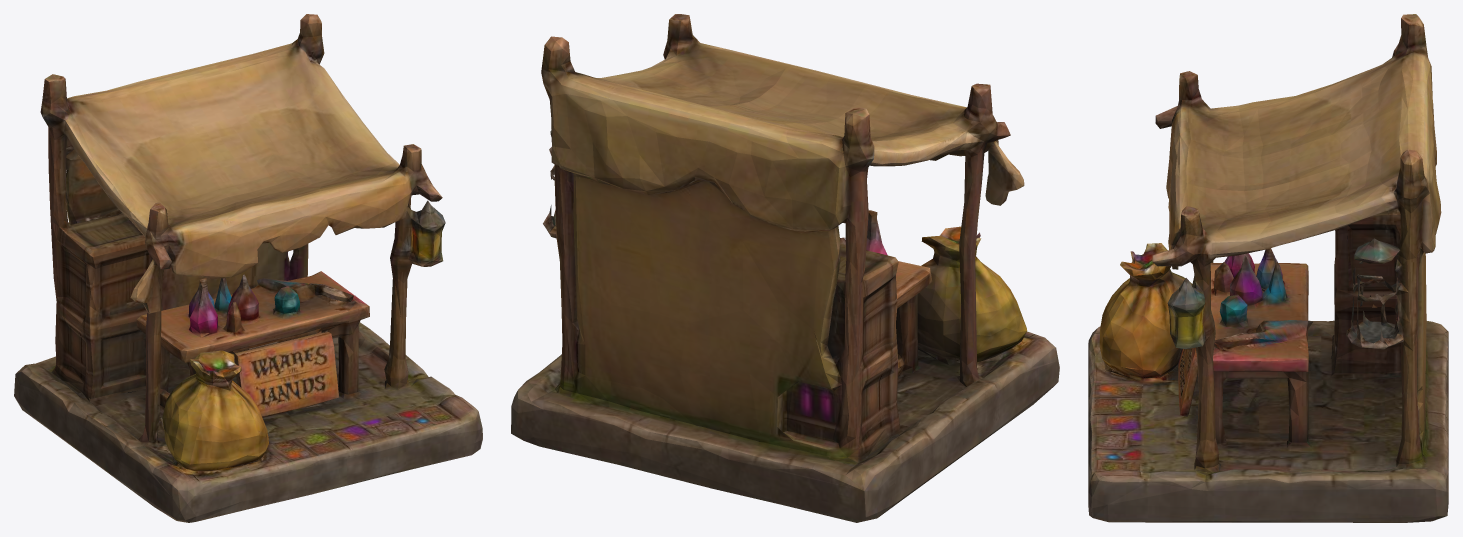
The model's file is stall_potion_lod0.glb.
3 views of the same model, side by side, from view 1: azimuth 30°, elevation 25°; view 2: azimuth 150°, elevation 25°; view 3: azimuth 270°, elevation 25° (orthographic). The views are drawn at different scales.
Visible parts, largest first — view 1: stall_potion_lod0; view 2: stall_potion_lod0; view 3: stall_potion_lod0.
Boxes of the visible parts, x1=… form: stall_potion_lod0: x1=14, y1=14, x2=482, y2=522; stall_potion_lod0: x1=511, y1=14, x2=1059, y2=522; stall_potion_lod0: x1=1088, y1=14, x2=1448, y2=522.
Size of the model in its own units: 2.95 by 2.99 by 2.71.
1 material, 1 textured.
